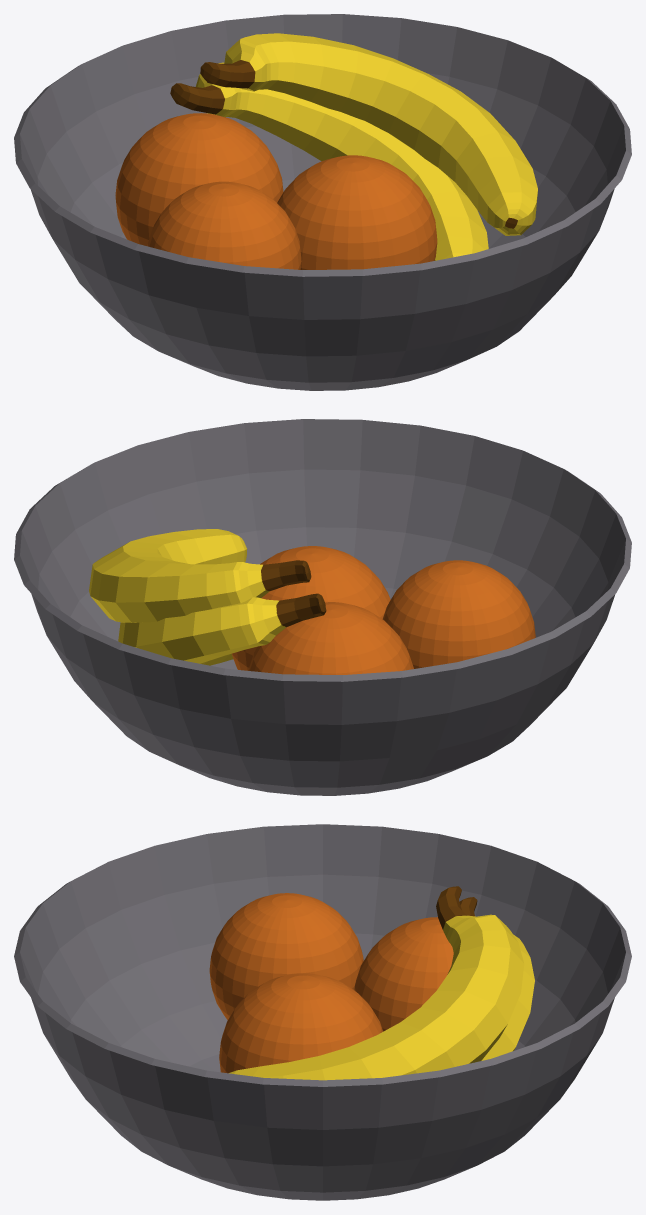
File: fruitbowl.fbx
The picture shows the model from 3 angles, top to bottom: view 1: azimuth 30°, elevation 25°; view 2: azimuth 150°, elevation 25°; view 3: azimuth 270°, elevation 25°; orthographic projection.
Visible parts, largest first — view 1: fruitbowl; view 2: fruitbowl; view 3: fruitbowl.
Part boxes in pixels (box(x1,y1,x2,y2)): fruitbowl: box(14, 14, 631, 390); fruitbowl: box(14, 419, 631, 795); fruitbowl: box(14, 824, 631, 1200).
Bounding box in the file's own units: 50.07 × 21.42 × 50.07.
